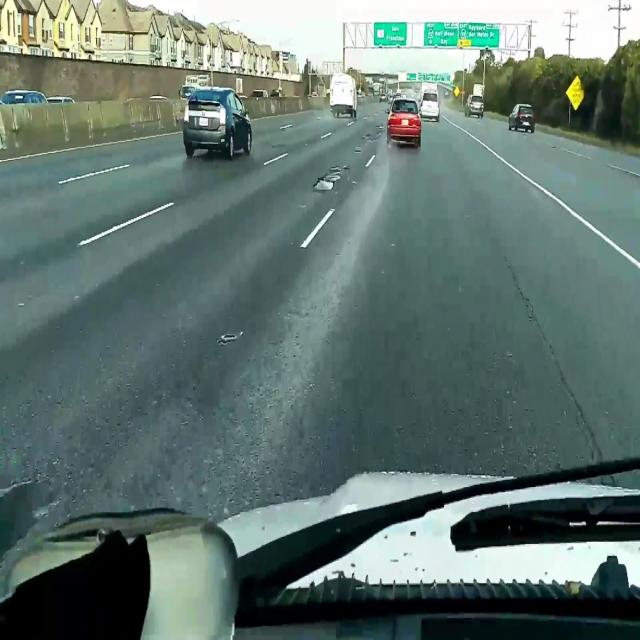Pothole: (314, 178, 336, 189), (354, 149, 361, 153)
